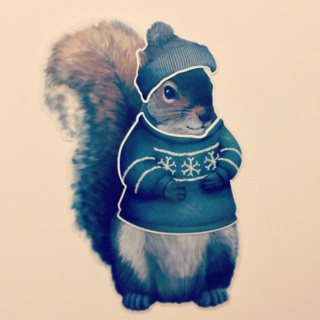Squirrel: (43, 17, 239, 311)
